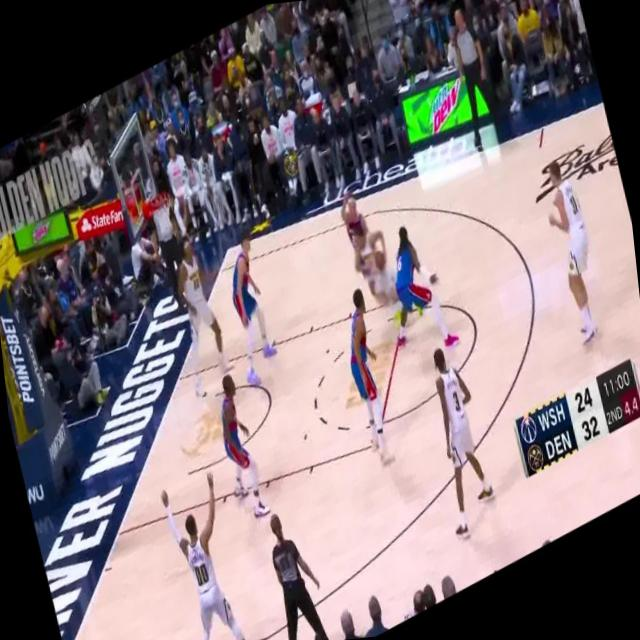ball-handler: (344, 204, 419, 331)
